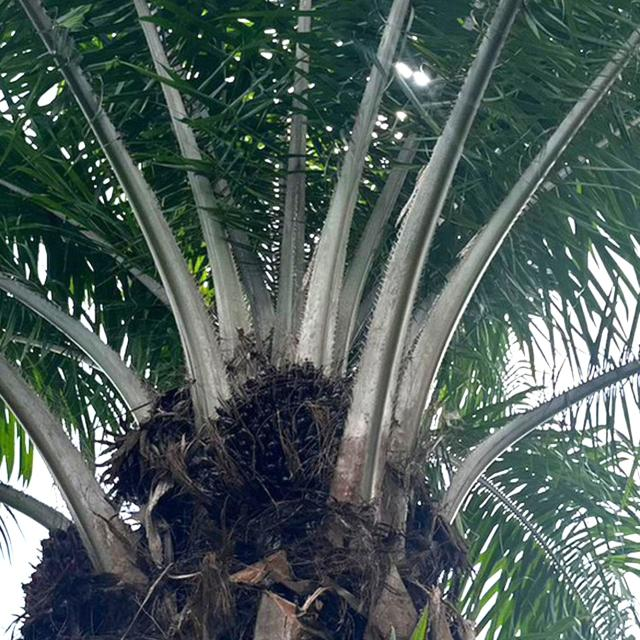almost: (206, 344, 356, 506)
